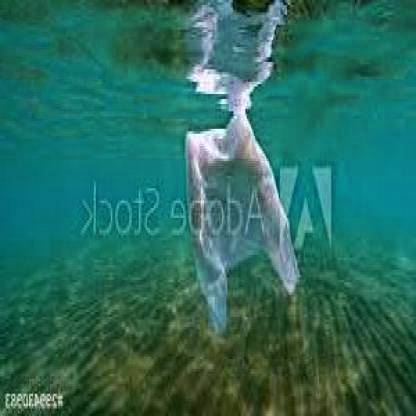pbag: (183, 109, 301, 337)
